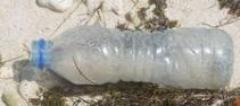plastic: (28, 24, 234, 90)
